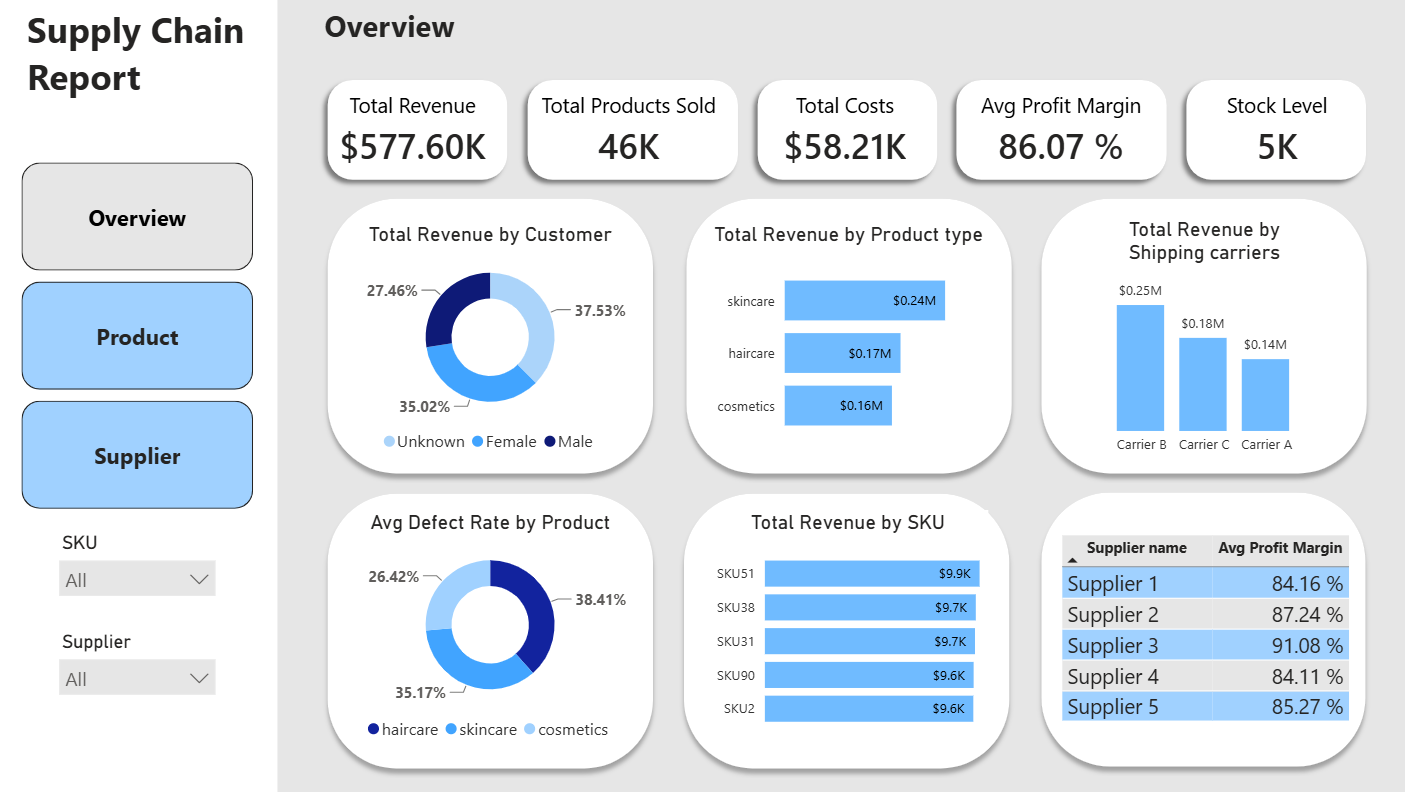

Layout of this report page (visuals, bound fields, positions):
{"tool":"powerbi","page":{"name":"Overview","canvas":[1280,720],"ordinal":0},"visuals":[{"type":"shape","box":[226.2,0,1054.1,720.2],"z":0},{"type":"shape","box":[288.6,63.6,180.9,108.5],"z":0,"group":"g1"},{"type":"shape","box":[0,0,252.5,720],"z":1000},{"type":"shape","box":[469.5,63.6,208.7,108.5],"z":1000,"group":"g1"},{"type":"shape","box":[678.2,63.6,180.9,108.5],"z":2000,"group":"g1"},{"type":"shape","box":[289.4,171.1,313,267.1],"z":2000},{"type":"shape","box":[859,63.6,208.7,108.5],"z":3000,"group":"g1"},{"type":"donutChart","title":"Total Revenue by Customer","fields":{"Y":["Measures_.Total Revenue"],"Category":["supply_chain_data.Customer demographics"]},"box":[320,201.7,251.8,218.4],"z":3000},{"type":"group","id":"g1","title":"Group 1","box":[288.6,63.6,959.9,107.6],"z":4000},{"type":"shape","box":[1067.7,63.6,180.9,108.5],"z":4000,"group":"g1"},{"type":"cardVisual","fields":{"Data":["Measures_.Total Revenue","Measures_.Total Products Sold","Measures_.Total Costs","Measures_.Avg Profit Margin %","Measures_.Stock Level"]},"box":[264.1,17.1,1008.8,201.8],"z":5000},{"type":"shape","box":[614.4,170.9,313,267.1],"z":6000},{"type":"shape","box":[936.3,171.1,313,267.1],"z":7000},{"type":"shape","box":[936.7,437.8,311.8,266.6],"z":8000},{"type":"shape","box":[612.2,438.3,313,267.1],"z":9000},{"type":"shape","box":[289.4,438.3,313,267.1],"z":10000},{"type":"donutChart","title":"Avg Defect Rate by Product","fields":{"Y":["Measures_.Avg Defect Rate %"],"Category":["supply_chain_data.Product type"]},"box":[320,461.9,251.8,218.4],"z":11000},{"type":"clusteredBarChart","fields":{"Y":["Measures_.Total Revenue"],"Category":["supply_chain_data.Product type"]},"box":[643.2,201.8,255.6,210.3],"z":12000},{"type":"clusteredBarChart","fields":{"Y":["Measures_.Total Revenue"],"Category":["supply_chain_data.SKU"]},"box":[643.2,462.2,254.3,210.3],"z":13000},{"type":"columnChart","fields":{"Category":["supply_chain_data.Shipping carriers"],"Y":["Measures_.Total Revenue"]},"box":[985.6,196.9,214,223.8],"z":14000},{"type":"tableEx","fields":{"Values":["supply_chain_data.Supplier name","Measures_.Avg Profit Margin %"]},"box":[957.5,480.6,271.5,183.4],"z":15000},{"type":"textbox","box":[289.8,0,206.7,63.6],"z":16000},{"type":"slicer","fields":{"Values":["supply_chain_data.SKU"]},"box":[43.9,477.5,161.9,70],"z":17000},{"type":"slicer","fields":{"Values":["supply_chain_data.Supplier name"]},"box":[43.9,566.7,161.9,70],"z":18000},{"type":"textbox","box":[20.8,0,217.7,101.5],"z":19000},{"type":"pageNavigator","box":[20,147.1,210,315.7],"z":20000}]}

Visuals, with their boxes in screenshot pixels (x1, y1, x2, y2), scaled from the page's 1280x720 canvas onto the 1405x792 screenshot:
shape: 248, 0, 1404, 791
shape: 317, 70, 515, 189
shape: 0, 0, 277, 791
shape: 515, 70, 744, 189
shape: 744, 70, 943, 189
shape: 318, 188, 661, 482
shape: 943, 70, 1172, 189
"Total Revenue by Customer" donutChart: 351, 222, 628, 462
"Group 1" group: 317, 70, 1370, 188
shape: 1172, 70, 1371, 189
cardVisual - Measures_.Total Revenue x Measures_.Total Products Sold: 290, 19, 1397, 241
shape: 674, 188, 1018, 482
shape: 1028, 188, 1371, 482
shape: 1028, 482, 1370, 775
shape: 672, 482, 1016, 776
shape: 318, 482, 661, 776
"Avg Defect Rate by Product" donutChart: 351, 508, 628, 748
clusteredBarChart - Measures_.Total Revenue x supply_chain_data.Product type: 706, 222, 987, 453
clusteredBarChart - Measures_.Total Revenue x supply_chain_data.SKU: 706, 508, 985, 740
columnChart - supply_chain_data.Shipping carriers x Measures_.Total Revenue: 1082, 217, 1317, 463
tableEx - supply_chain_data.Supplier name x Measures_.Avg Profit Margin %: 1051, 529, 1349, 730
textbox: 318, 0, 545, 70
slicer - supply_chain_data.SKU: 48, 525, 226, 602
slicer - supply_chain_data.Supplier name: 48, 623, 226, 700
textbox: 23, 0, 262, 112
pageNavigator: 22, 162, 252, 509
